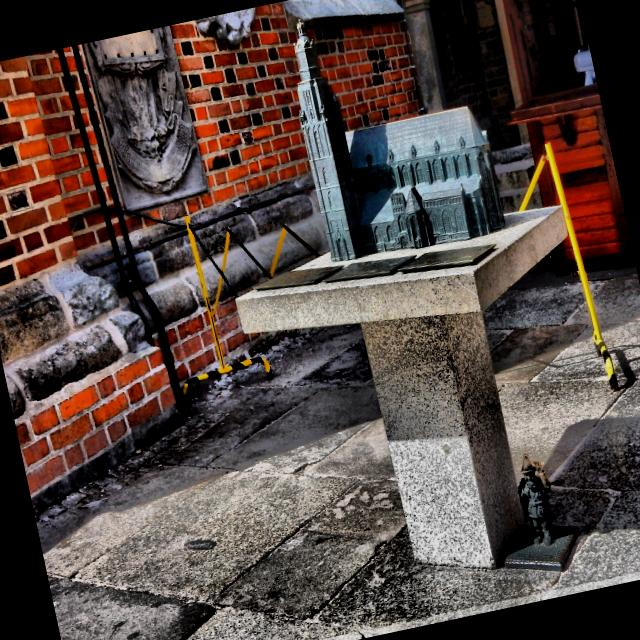Weteran: (518, 453, 555, 545)
